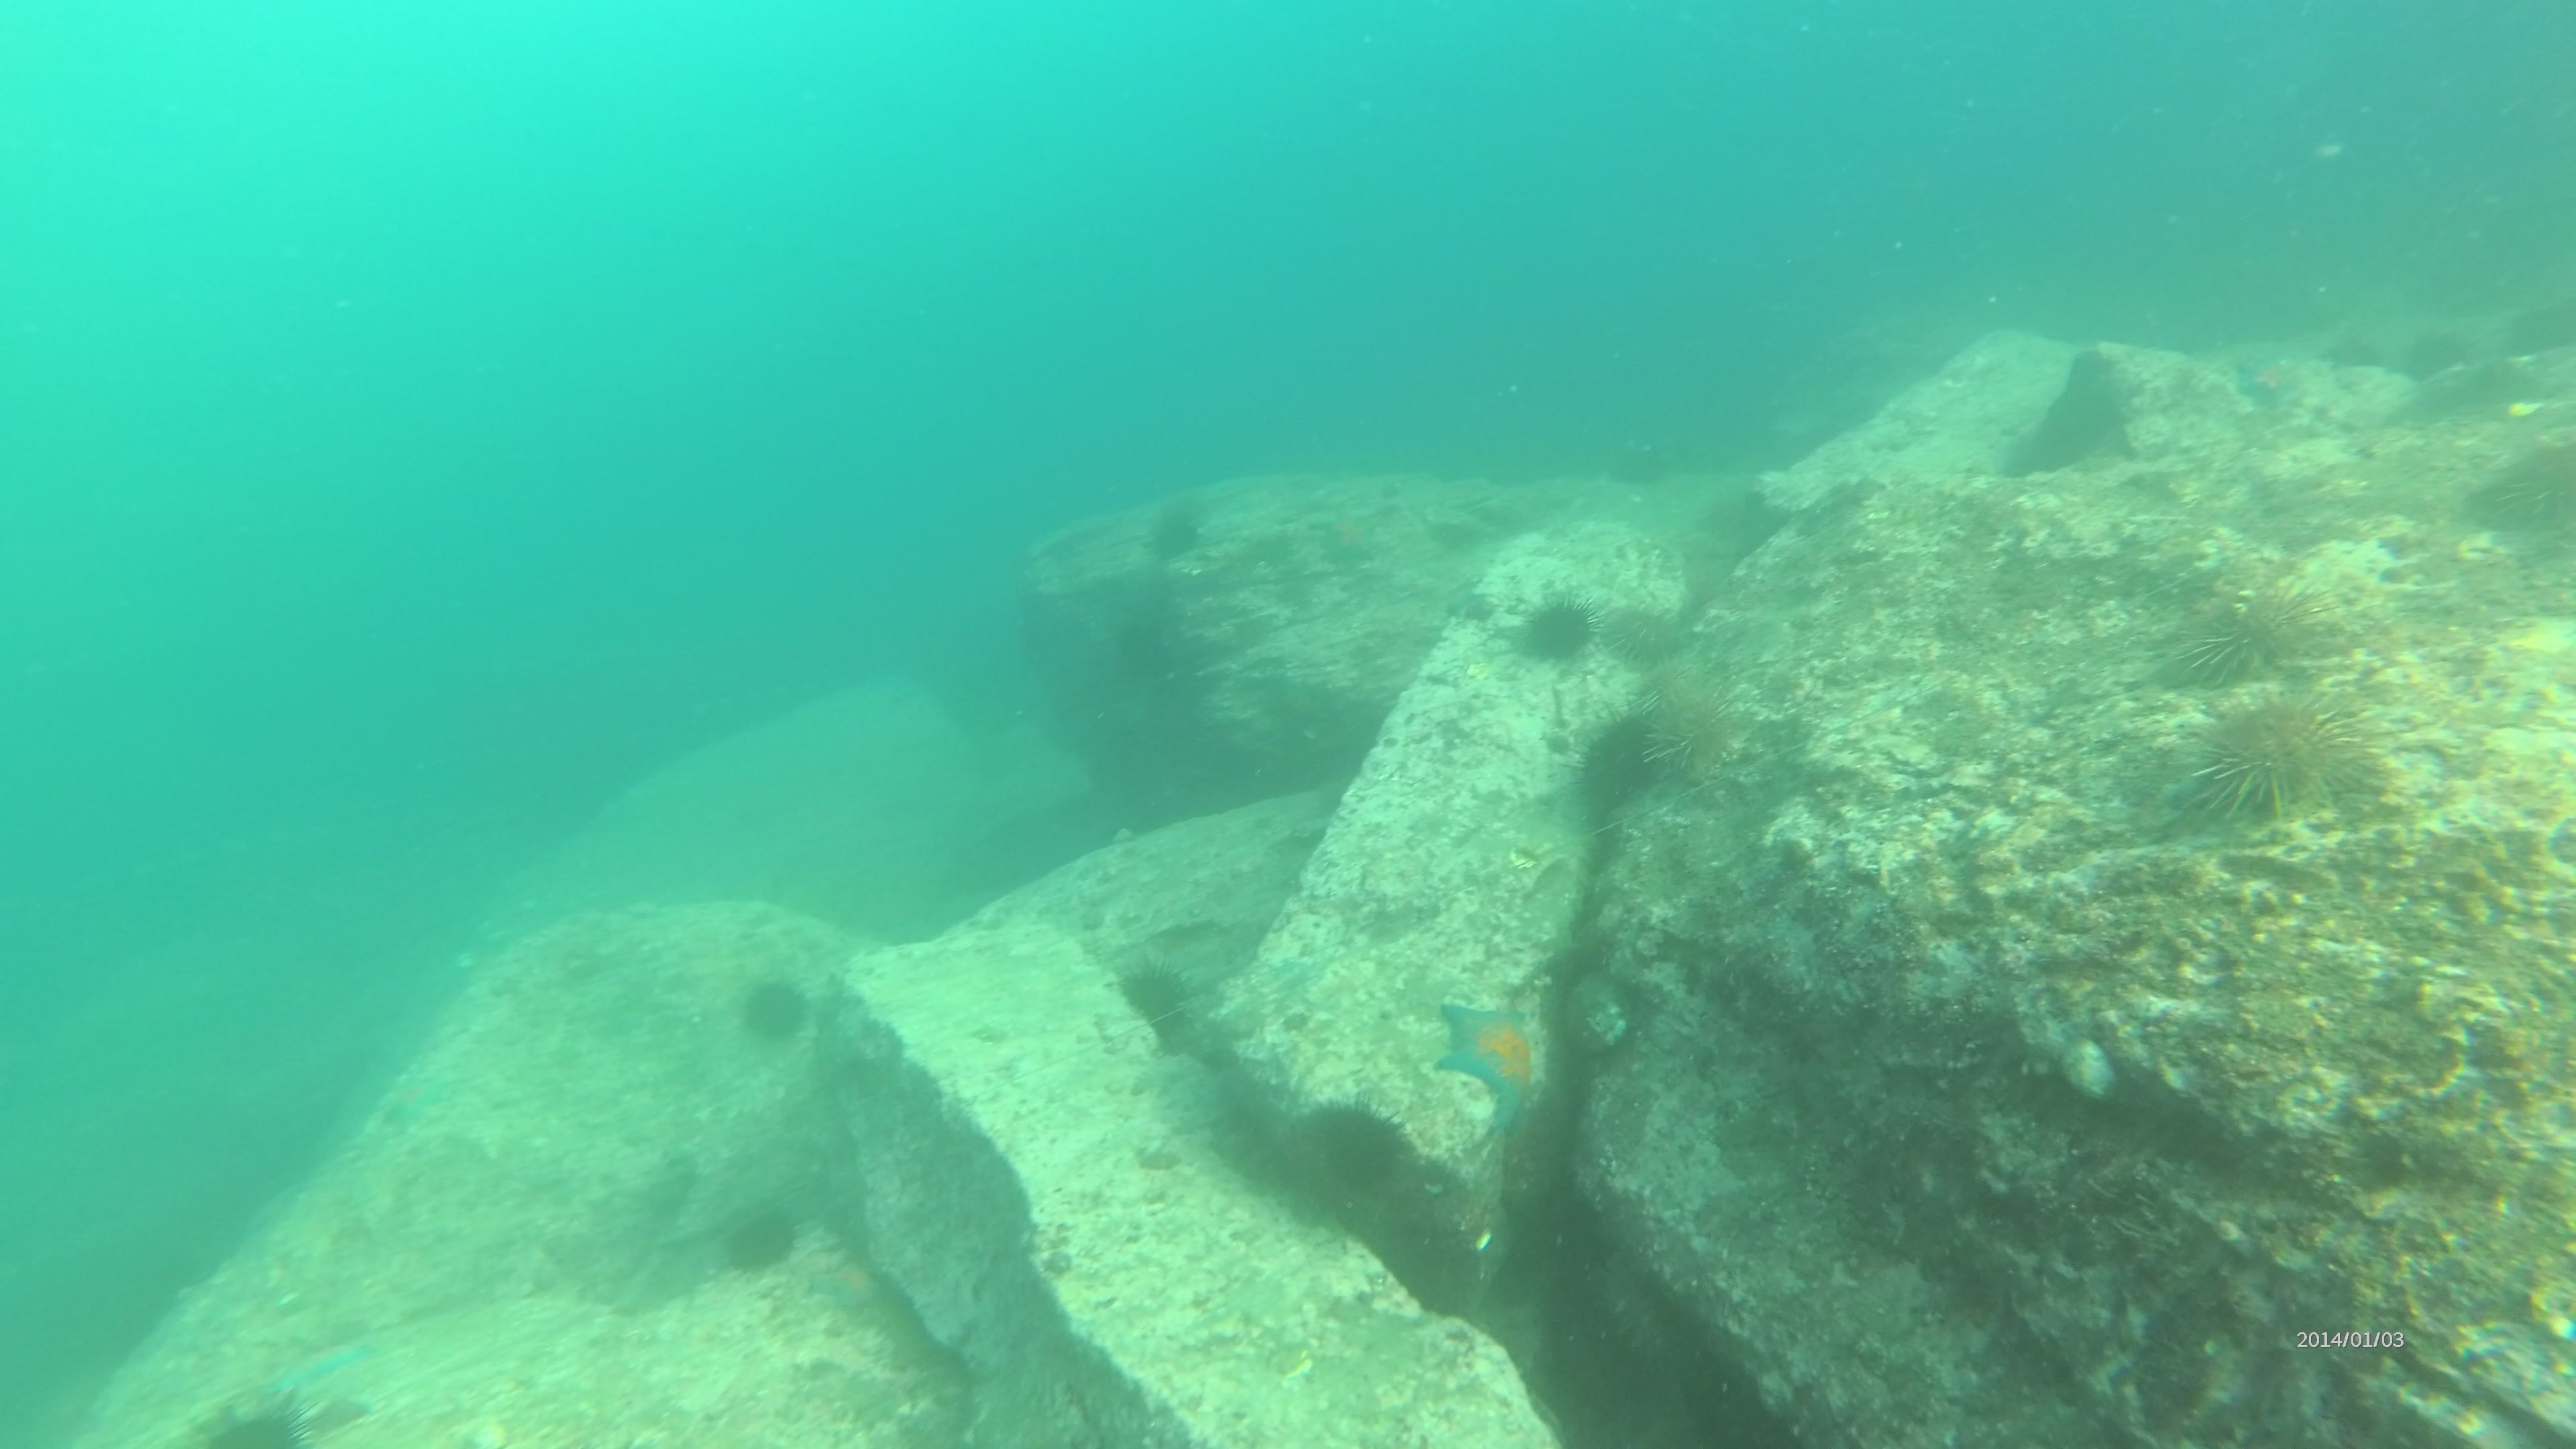echinus: (2185, 683, 2385, 830), (2166, 571, 2334, 694), (1633, 669, 1748, 796), (1290, 1093, 1414, 1208), (2468, 426, 2574, 545), (1568, 706, 1670, 819), (184, 1378, 341, 1444), (1507, 586, 1601, 672), (1111, 952, 1198, 1040), (717, 1198, 805, 1279), (732, 970, 817, 1053), (1601, 594, 1691, 671), (2509, 304, 2576, 361), (2404, 333, 2484, 380), (1141, 518, 1205, 566), (2332, 333, 2392, 373), (1166, 497, 1203, 522)
starfish: (1428, 987, 1560, 1131), (801, 1244, 883, 1322), (265, 1343, 373, 1391), (1313, 506, 1385, 575), (2235, 354, 2307, 410), (1605, 442, 1677, 488)
